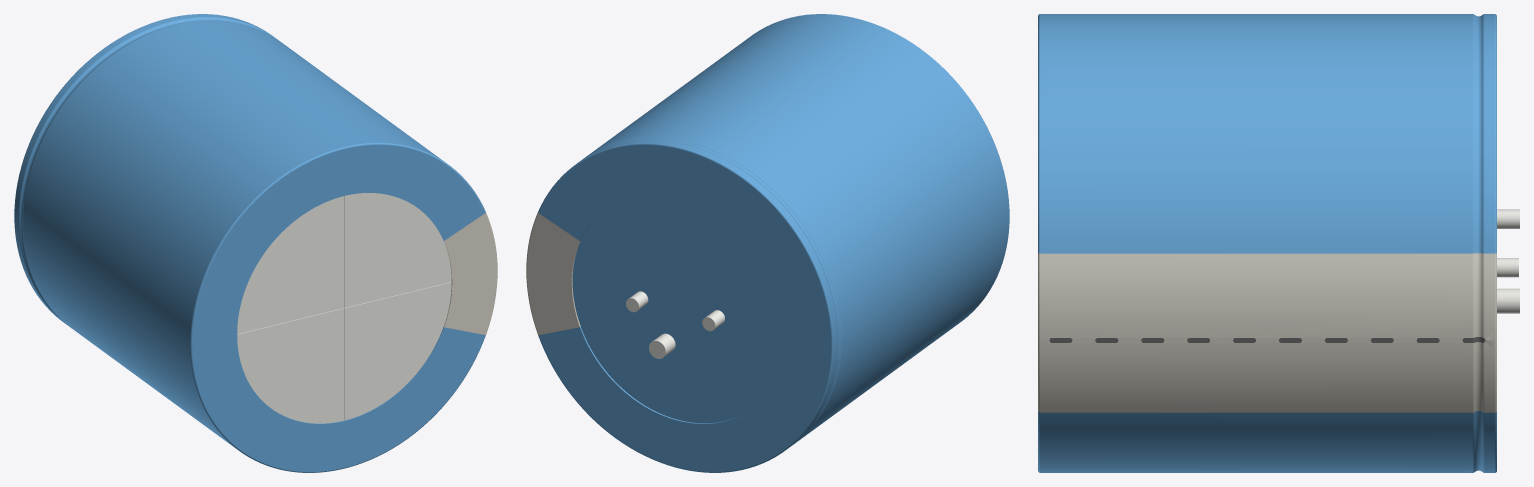
The model's file is CP_Radial_D40.0mm_P10.00mm_3pin_SnapIn.glb.
3 views of the same model, side by side, from view 1: azimuth 30°, elevation 25°; view 2: azimuth 150°, elevation 25°; view 3: azimuth 270°, elevation 25° (orthographic). The views are drawn at different scales.
Visible parts, largest first — view 1: Shape_IndexedFaceSet.024, Shape_IndexedFaceSet.043, Shape_IndexedFaceSet.050, Shape_IndexedFaceSet.046, Shape_IndexedFaceSet.053, Shape_IndexedFaceSet.056, Shape_IndexedFaceSet.039, Shape_IndexedFaceSet.038, Shape_IndexedFaceSet.004, Shape_IndexedFaceSet.013, Shape_IndexedFaceSet.008; view 2: Shape_IndexedFaceSet.024, Shape_IndexedFaceSet.022, Shape_IndexedFaceSet.016, Shape_IndexedFaceSet.011, Shape_IndexedFaceSet.010, Shape_IndexedFaceSet.004, Shape_IndexedFaceSet.013, Shape_IndexedFaceSet.019; view 3: Shape_IndexedFaceSet.024, Shape_IndexedFaceSet.020, Shape_IndexedFaceSet.004, Shape_IndexedFaceSet.013, Shape_IndexedFaceSet, Shape_IndexedFaceSet.019, Shape_IndexedFaceSet.008, Shape_IndexedFaceSet.010, Shape_IndexedFaceSet.038, Shape_IndexedFaceSet.007, Shape_IndexedFaceSet.036, Shape_IndexedFaceSet.009.
Boxes of the visible parts, <box> form: Shape_IndexedFaceSet.024: <box>23,20,444,447</box>; Shape_IndexedFaceSet.043: <box>192,145,484,471</box>; Shape_IndexedFaceSet.050: <box>344,282,451,420</box>; Shape_IndexedFaceSet.046: <box>344,193,451,307</box>; Shape_IndexedFaceSet.053: <box>237,308,343,423</box>; Shape_IndexedFaceSet.056: <box>237,196,343,333</box>; Shape_IndexedFaceSet.039: <box>444,213,496,334</box>; Shape_IndexedFaceSet.038: <box>190,142,485,472</box>; Shape_IndexedFaceSet.004: <box>14,14,270,321</box>; Shape_IndexedFaceSet.013: <box>20,18,261,313</box>; Shape_IndexedFaceSet.008: <box>18,17,277,325</box>; Shape_IndexedFaceSet.024: <box>589,14,1009,440</box>; Shape_IndexedFaceSet.022: <box>572,193,786,423</box>; Shape_IndexedFaceSet.016: <box>539,145,831,471</box>; Shape_IndexedFaceSet.011: <box>527,213,579,334</box>; Shape_IndexedFaceSet.010: <box>538,142,833,472</box>; Shape_IndexedFaceSet.004: <box>581,140,837,447</box>; Shape_IndexedFaceSet.013: <box>601,137,840,433</box>; Shape_IndexedFaceSet.019: <box>583,136,842,444</box>; Shape_IndexedFaceSet.024: <box>1040,14,1472,472</box>; Shape_IndexedFaceSet.020: <box>1040,253,1472,412</box>; Shape_IndexedFaceSet.004: <box>1484,14,1494,472</box>; Shape_IndexedFaceSet.013: <box>1475,15,1482,471</box>; Shape_IndexedFaceSet: <box>1484,253,1494,412</box>; Shape_IndexedFaceSet.019: <box>1472,14,1474,472</box>; Shape_IndexedFaceSet.008: <box>1482,14,1484,472</box>; Shape_IndexedFaceSet.010: <box>1494,14,1496,472</box>; Shape_IndexedFaceSet.038: <box>1038,14,1040,472</box>; Shape_IndexedFaceSet.007: <box>1475,253,1482,337</box>; Shape_IndexedFaceSet.036: <box>1497,288,1519,313</box>; Shape_IndexedFaceSet.009: <box>1475,342,1482,411</box>.
Size of the model in its own units: 15.75 by 15.75 by 16.54.
